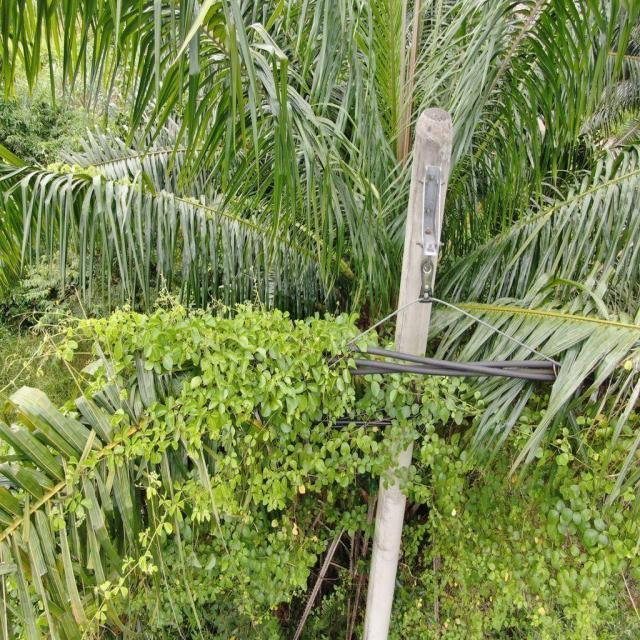critical vegetation: (54, 290, 480, 445)
